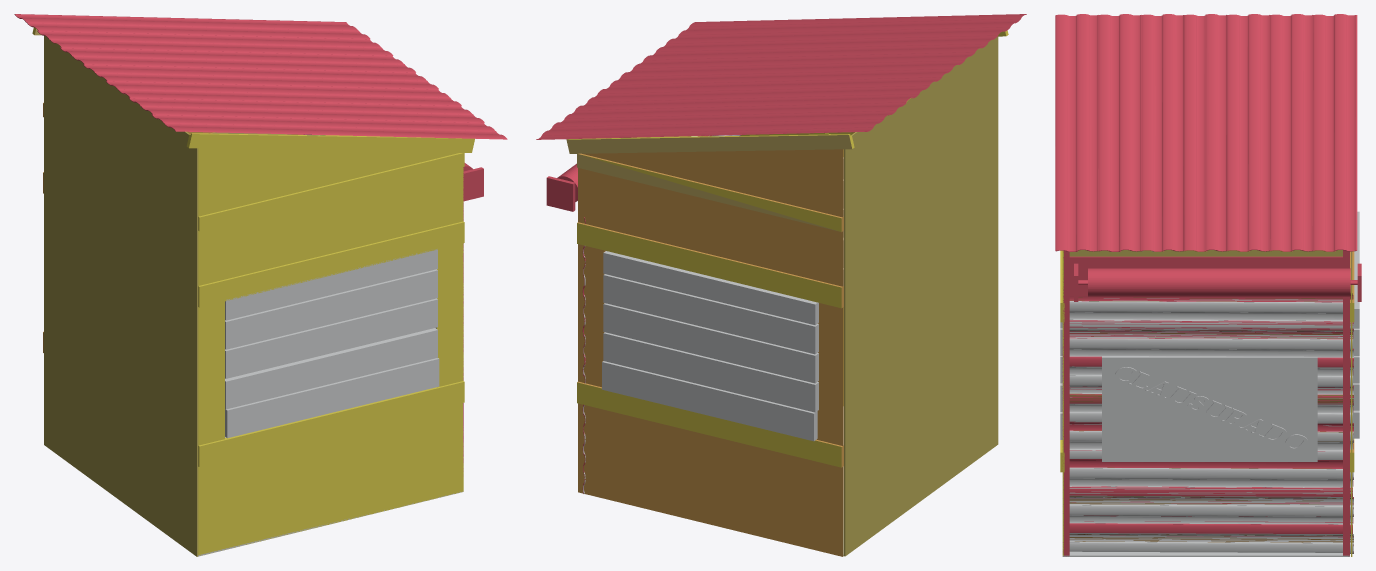
Rendered from kiosko clausurado.glb.
3 renders of one model, left to right at view 1: azimuth 30°, elevation 25°; view 2: azimuth 150°, elevation 25°; view 3: azimuth 270°, elevation 25°, orthographic. The views are drawn at different scales.
Parts seen in each view (by area): view 1: Mesh_Mesh_head_geo.001_lambert2SG.001; view 2: Mesh_Mesh_head_geo.001_lambert2SG.001; view 3: Mesh_Mesh_head_geo.001_lambert2SG.001.
Part boxes in pixels (x1,y1,x2,y2): Mesh_Mesh_head_geo.001_lambert2SG.001: (14, 14, 507, 556); Mesh_Mesh_head_geo.001_lambert2SG.001: (536, 14, 1026, 556); Mesh_Mesh_head_geo.001_lambert2SG.001: (1055, 14, 1361, 556).
Bounding box in the file's own units: 251 × 314 × 213.
